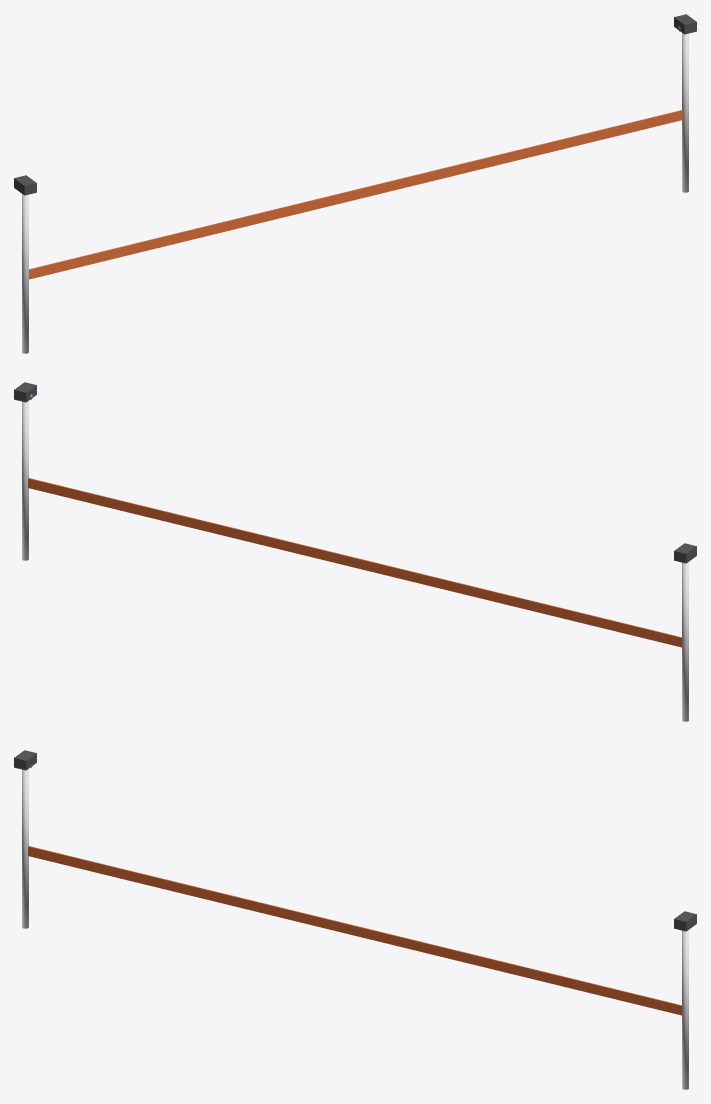
Rendered from Finishing line.glb.
3 views of the same model, one above another, from view 1: azimuth 30°, elevation 25°; view 2: azimuth 150°, elevation 25°; view 3: azimuth 330°, elevation 25° (orthographic).
Parts seen in each view (by area): view 1: MetaAthletics_FinishTape, MetaAthletics_FinishPost_Left, MetaAthletics_FinishPost_Right; view 2: MetaAthletics_FinishTape, MetaAthletics_FinishPost_Left, MetaAthletics_FinishPost_Right; view 3: MetaAthletics_FinishTape, MetaAthletics_FinishPost_Right, MetaAthletics_FinishPost_Left.
Boxes of the visible parts, x1,y1,x2,y2 form: MetaAthletics_FinishTape: (29, 110, 682, 279); MetaAthletics_FinishPost_Left: (22, 194, 28, 353); MetaAthletics_FinishPost_Right: (682, 33, 688, 192); MetaAthletics_FinishTape: (28, 478, 681, 647); MetaAthletics_FinishPost_Left: (682, 562, 688, 721); MetaAthletics_FinishPost_Right: (22, 401, 28, 560); MetaAthletics_FinishTape: (28, 846, 681, 1015); MetaAthletics_FinishPost_Right: (682, 930, 688, 1089); MetaAthletics_FinishPost_Left: (22, 769, 28, 928).
Size of the model in its own units: 10.96 by 2.67 by 0.3.
